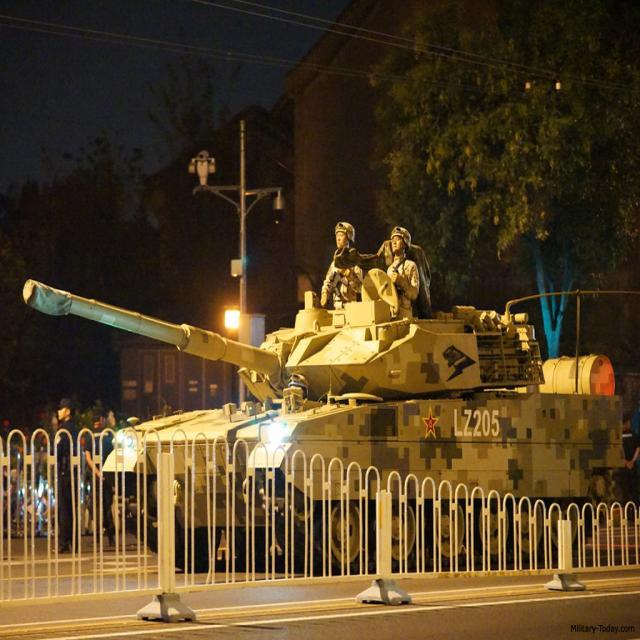Tank: (16, 268, 635, 537)
